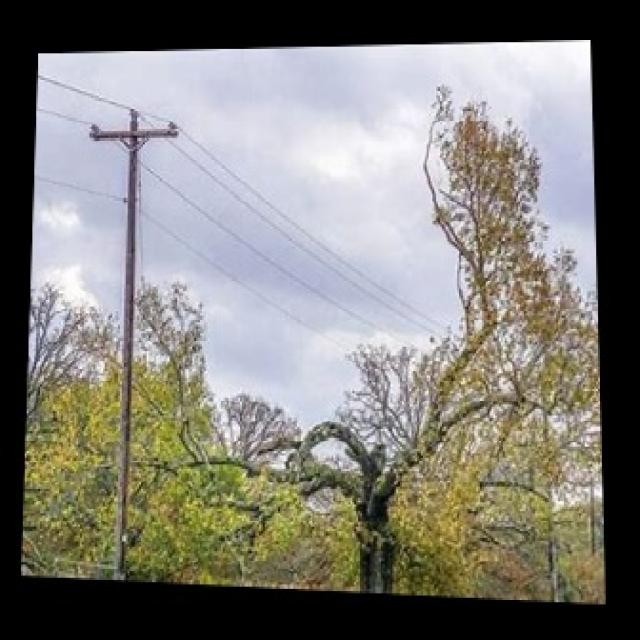utility poles: (84, 93, 178, 582)
